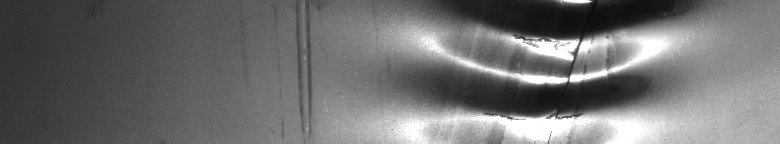ke: (448, 4, 668, 124)
